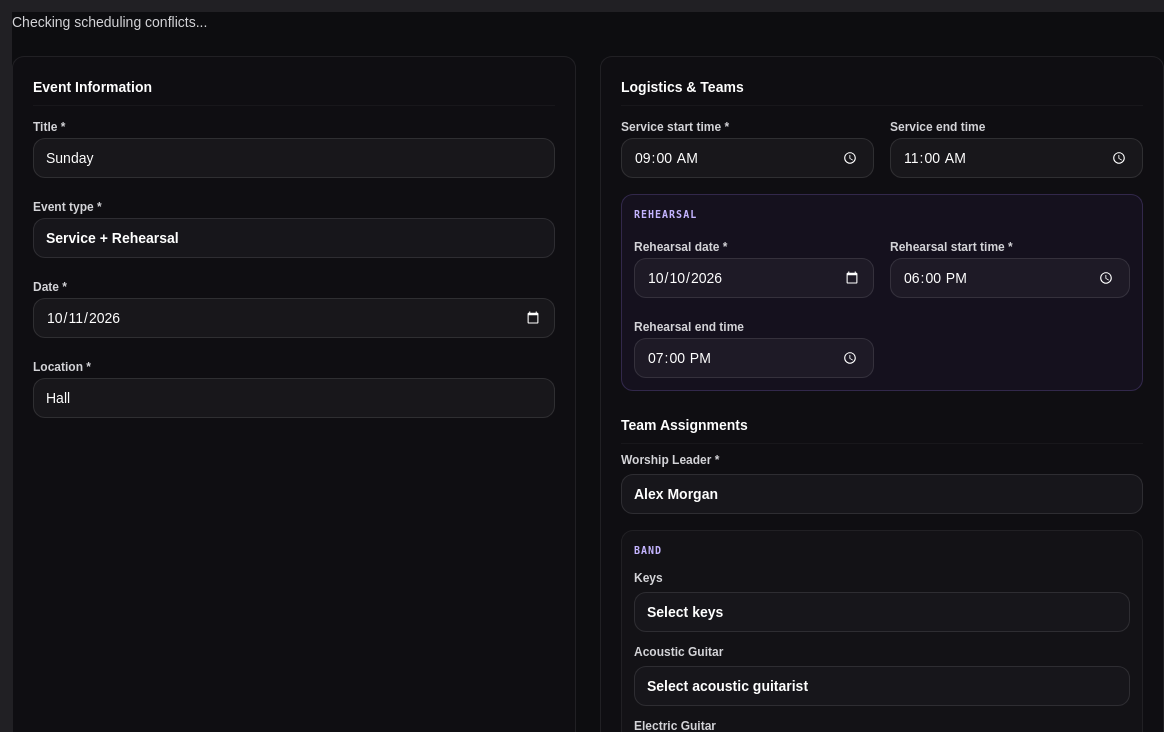
Test: Event conflict feedback › aborts and ignores an older response after dates change
Type "2026-10-12" into the date field named "date".
click(294, 318); type("2026-10-12")  # box [33,298,555,338]
Wait 500 ms
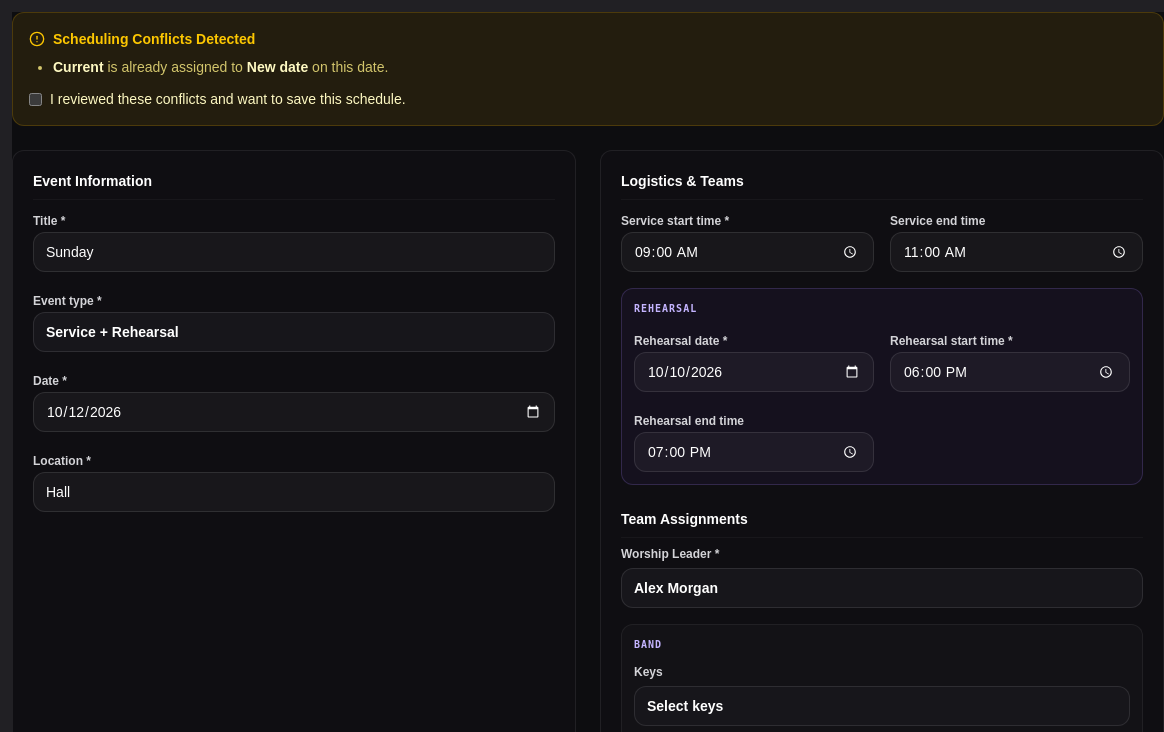
Now the text "New date" is shown, box [247,59,308,75]
